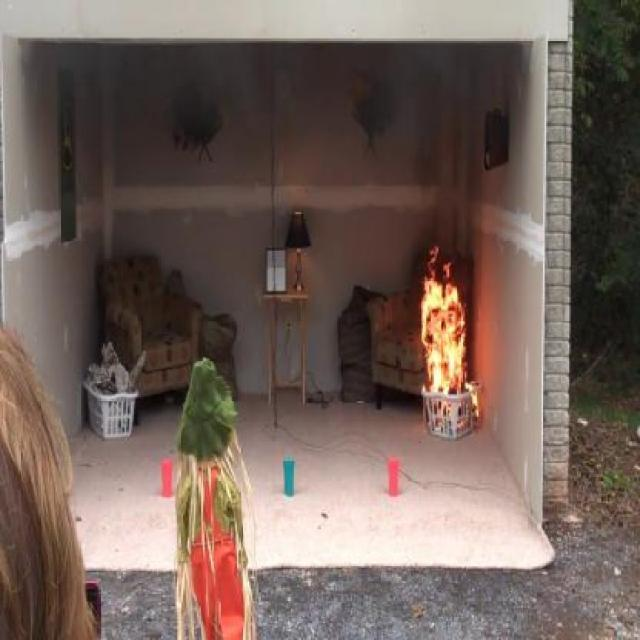fire: (418, 250, 484, 432)
smoke: (72, 37, 523, 176)
